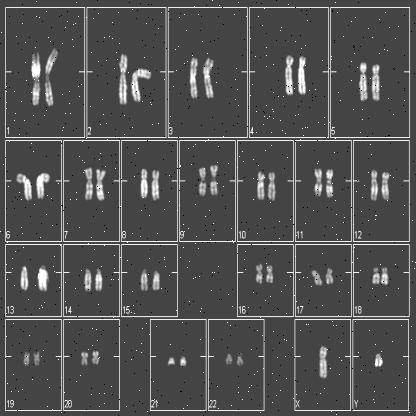1: (43, 46, 60, 110), (26, 47, 43, 110)
10: (256, 166, 268, 210), (268, 166, 280, 210)
11: (311, 161, 324, 207), (324, 160, 336, 206)
12: (366, 165, 378, 208), (378, 165, 390, 208)
13: (15, 256, 34, 297), (34, 256, 52, 296)
14: (80, 260, 94, 295), (94, 262, 108, 296)
15: (150, 262, 162, 298), (140, 262, 150, 298)
16: (264, 256, 275, 288), (254, 256, 264, 288)
17: (310, 262, 324, 292), (324, 262, 338, 292)
18: (381, 258, 393, 291), (370, 258, 381, 292)
19: (32, 340, 43, 370), (22, 340, 32, 370)
2: (129, 48, 152, 109), (115, 48, 128, 110)
20: (90, 344, 100, 370), (80, 344, 90, 369)
21: (165, 350, 177, 374), (178, 350, 190, 374)
22: (234, 350, 246, 369), (223, 350, 234, 368)
3: (201, 48, 214, 108), (188, 48, 200, 108)
4: (280, 50, 298, 102), (296, 50, 314, 102)
5: (357, 52, 369, 110), (369, 52, 381, 109)
6: (13, 168, 35, 204), (34, 168, 56, 204)
7: (94, 163, 108, 206), (82, 163, 95, 206)
8: (138, 162, 150, 202), (150, 162, 162, 202)
9: (197, 162, 209, 203), (208, 162, 219, 202)
X: (318, 342, 328, 382)
Y: (371, 347, 385, 372)
